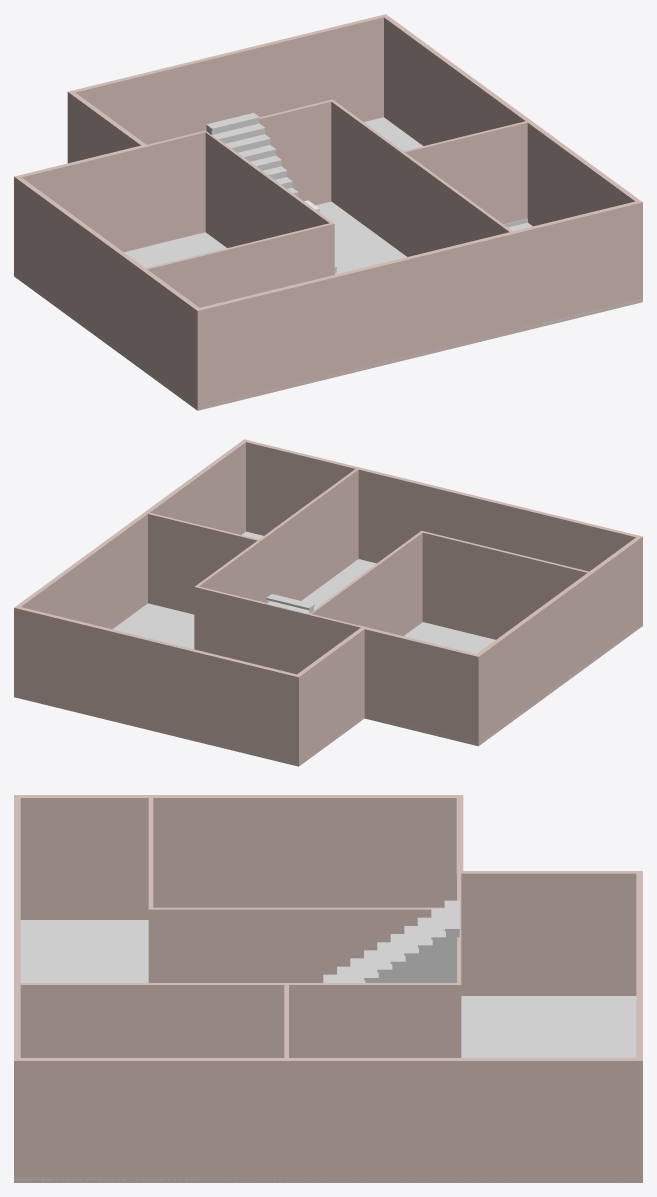
Rendered from Casa_planta_prueba.fbx.
3 views of the same model, one above another, from view 1: azimuth 30°, elevation 25°; view 2: azimuth 150°, elevation 25°; view 3: azimuth 270°, elevation 25° (orthographic). The views are drawn at different scales.
Visible parts, largest first — view 1: Room, Room.001, Room.002, Room.003, Floor, Stairs, Baseboard; view 2: Room, Room.001, Room.002, Room.003, Floor, Baseboard, Stairs; view 3: Room, Room.001, Floor, Room.002, Stairs, Baseboard.
Part boxes in pixels (x1,y1,x2,y2): Room: [14, 14, 642, 410]; Room.001: [147, 99, 512, 256]; Room.002: [146, 132, 334, 307]; Room.003: [402, 120, 530, 224]; Floor: [124, 117, 532, 273]; Stairs: [206, 113, 337, 274]; Baseboard: [15, 275, 642, 410]; Room: [14, 439, 642, 766]; Room.001: [194, 469, 362, 674]; Room.002: [310, 530, 588, 639]; Room.003: [145, 512, 260, 614]; Floor: [112, 531, 495, 653]; Baseboard: [14, 626, 640, 766]; Stairs: [266, 594, 318, 613]; Room: [14, 795, 642, 1182]; Room.001: [20, 873, 461, 1057]; Floor: [20, 920, 636, 1057]; Room.002: [148, 798, 444, 982]; Stairs: [323, 900, 459, 982]; Baseboard: [14, 1178, 642, 1182].
Bounding box in the file's own units: 5600 × 1961 × 5600.
